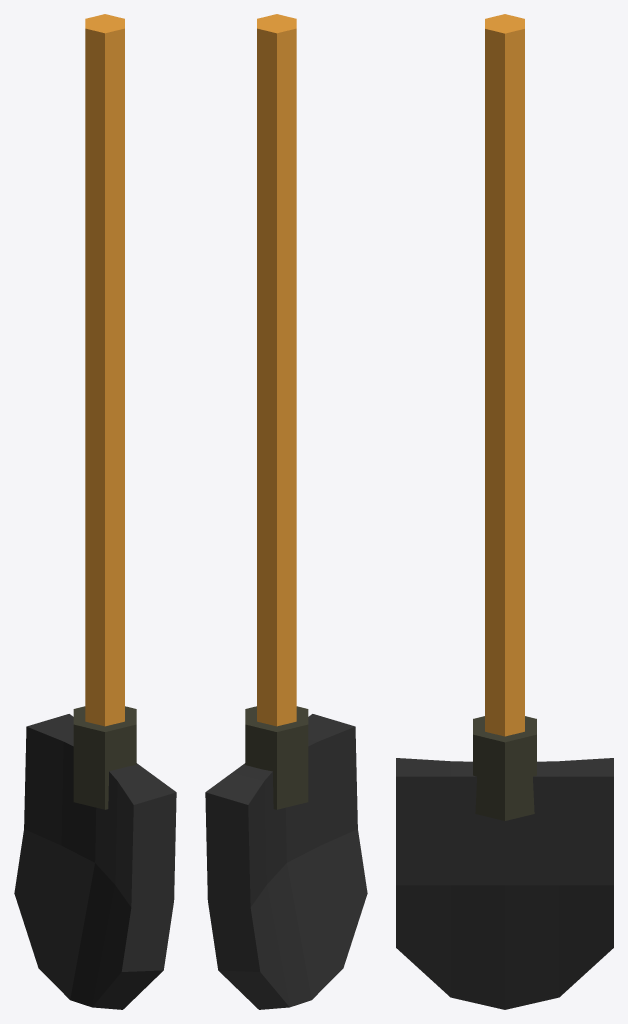
Rendered from shovel.fbx.
3 views of the same model, side by side, from view 1: azimuth 30°, elevation 25°; view 2: azimuth 150°, elevation 25°; view 3: azimuth 270°, elevation 25° (orthographic).
Parts seen in each view (by area): view 1: shovel; view 2: shovel; view 3: shovel.
Part boxes in pixels (box(x1,y1,x2,y2)): shovel: box(14, 14, 176, 1009); shovel: box(205, 14, 367, 1009); shovel: box(396, 14, 613, 1009).
Bounding box in the file's own units: 64.07 × 839 × 167.
